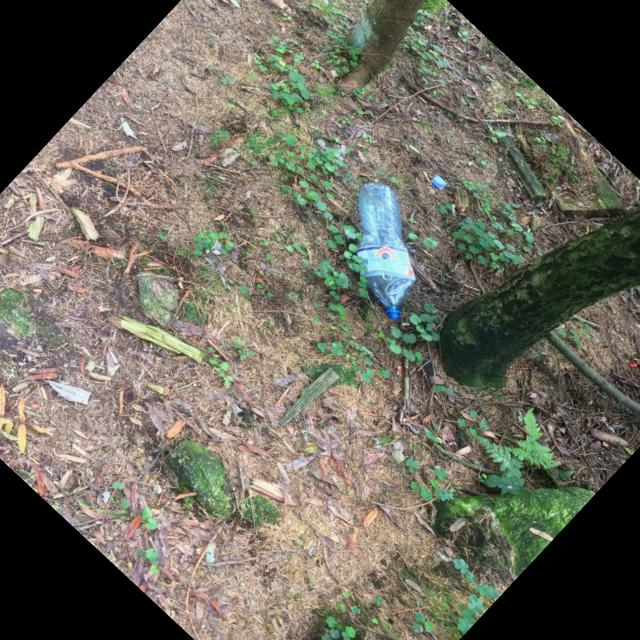Bottle cap: (432, 177, 445, 189)
Clear plastic bottle: (357, 183, 416, 321)
